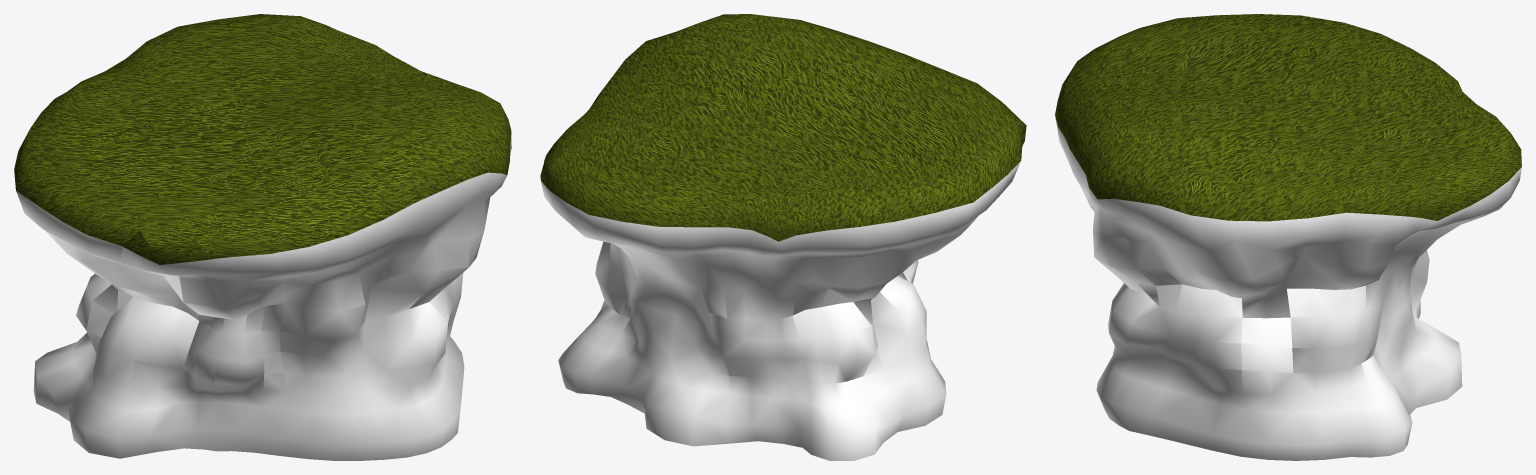
The model's file is PlatformGrass4_LOD0.fbx.
3 renders of one model, left to right at view 1: azimuth 30°, elevation 25°; view 2: azimuth 150°, elevation 25°; view 3: azimuth 270°, elevation 25°, orthographic. The views are drawn at different scales.
Visible parts, largest first — view 1: Mesh; view 2: Mesh; view 3: Mesh.
Boxes of the visible parts, x1,y1,x2,y2 form: Mesh: (14, 14, 511, 460); Mesh: (540, 14, 1026, 460); Mesh: (1055, 14, 1521, 460).
Bounding box in the file's own units: 1827 × 1258 × 1794.
